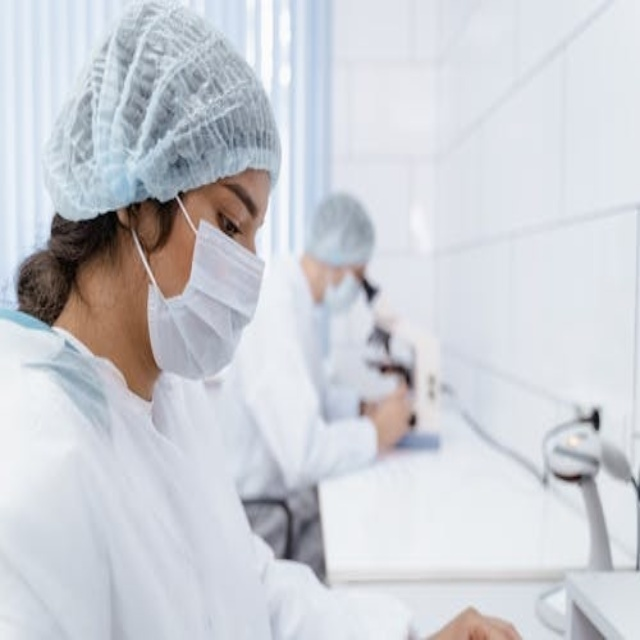Mascara: (138, 191, 263, 381), (321, 268, 363, 314)
Sin_gafas: (207, 175, 280, 258)
Sin_guantes: (422, 580, 535, 638), (358, 369, 420, 459)
